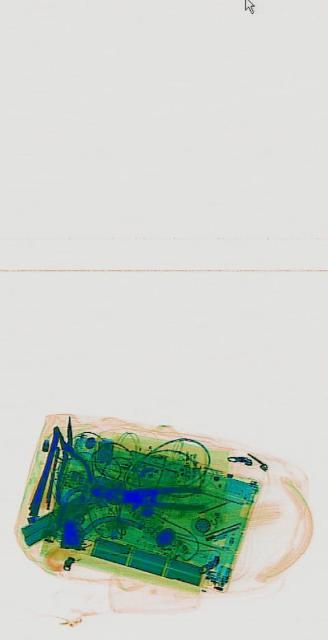Pliers: (45, 410, 92, 504), (120, 482, 202, 511)
